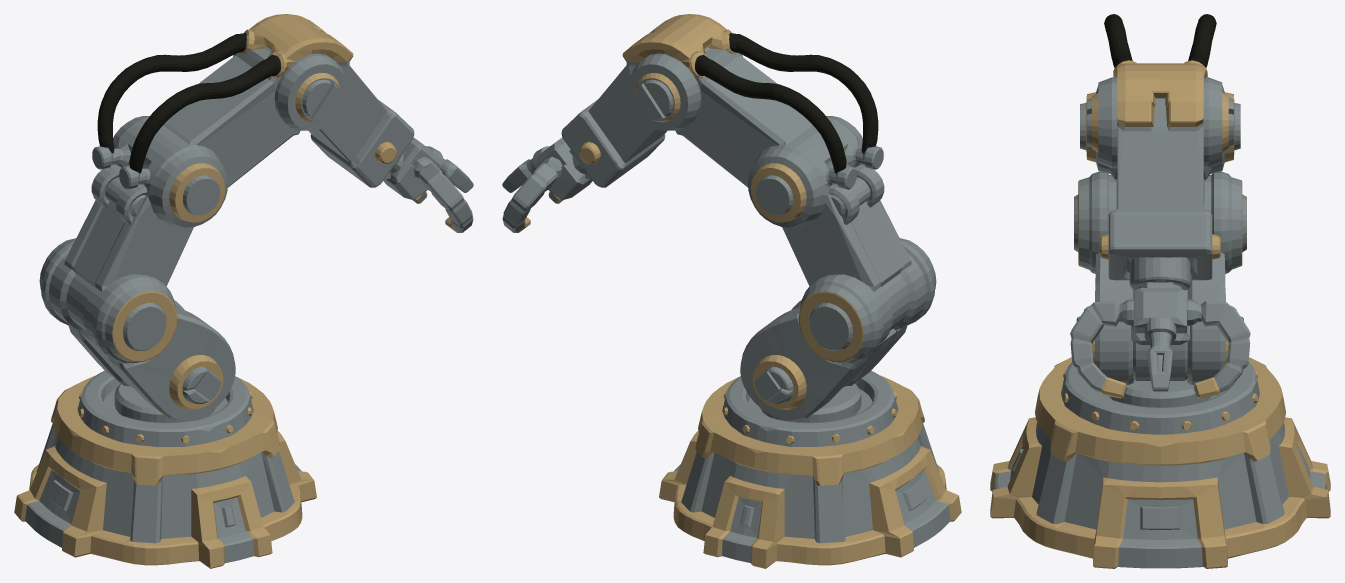
3 views of the same model, side by side, from view 1: azimuth 30°, elevation 25°; view 2: azimuth 150°, elevation 25°; view 3: azimuth 270°, elevation 25° (orthographic). The views are drawn at different scales.
Parts seen in each view (by area): view 1: robotarm; view 2: robotarm; view 3: robotarm.
Part boxes in pixels (x1,y1,x2,y2): robotarm: [14, 14, 473, 568]; robotarm: [502, 14, 961, 568]; robotarm: [990, 14, 1330, 568].
Bounding box in the file's own units: 2 × 1.99 × 1.22.
